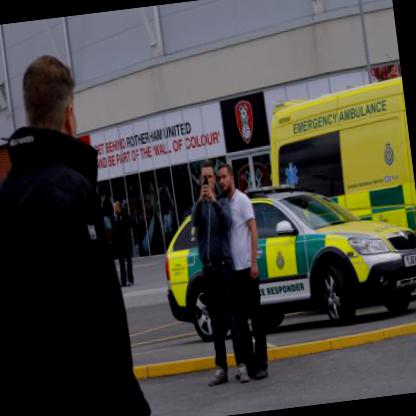truck: (258, 70, 415, 291)
